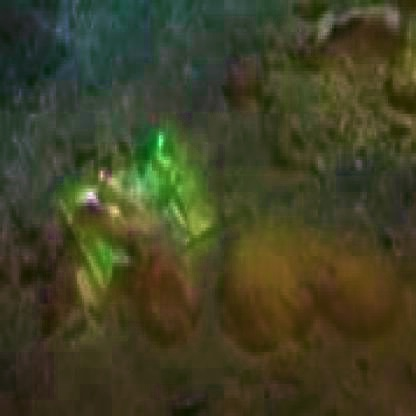plastic: (58, 132, 218, 298)
